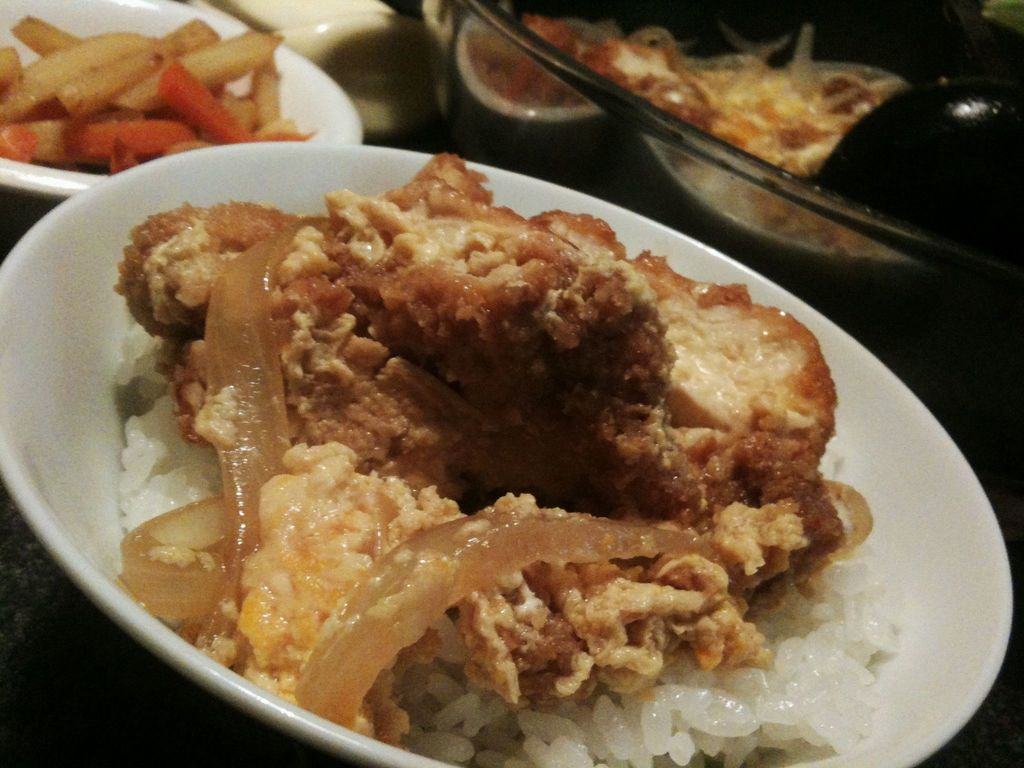French fries: (0, 8, 323, 158)
